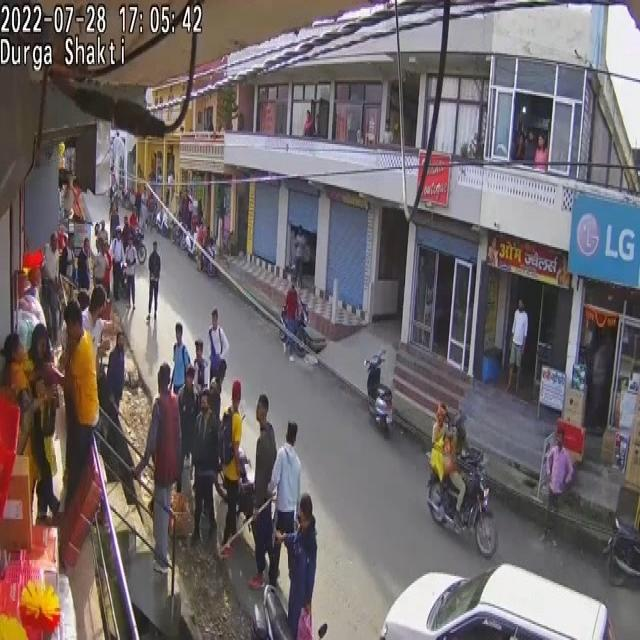fight: (147, 307, 254, 570), (0, 406, 74, 637), (57, 306, 100, 517), (0, 336, 39, 520), (24, 329, 61, 522), (278, 492, 317, 640)
non-fight: (266, 420, 301, 590), (539, 423, 574, 547), (430, 404, 464, 516), (208, 309, 229, 392), (281, 279, 301, 357), (146, 240, 162, 319), (122, 235, 138, 309)
